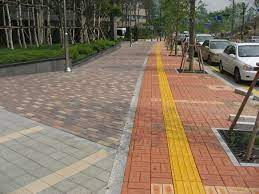guide_blocks: (165, 123, 205, 193), (159, 78, 181, 123), (157, 58, 166, 79), (155, 47, 161, 58)
